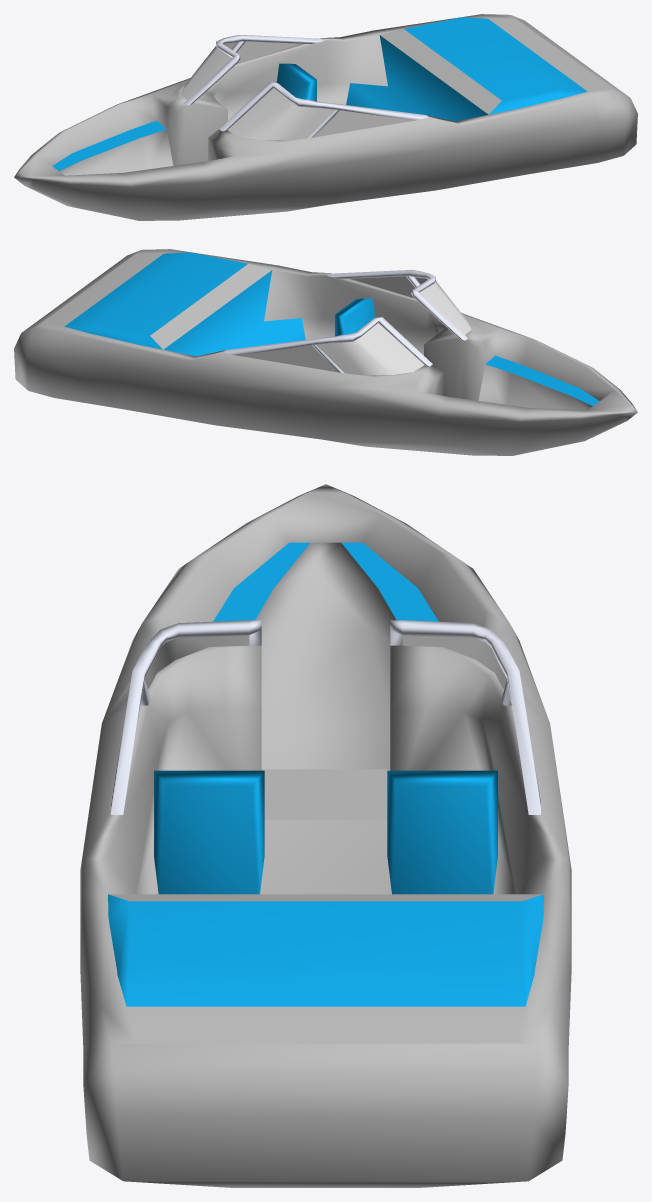
Rendered from speed boat animated.fbx.
3 views of the same model, one above another, from view 1: azimuth 30°, elevation 25°; view 2: azimuth 150°, elevation 25°; view 3: azimuth 270°, elevation 25° (orthographic). The views are drawn at different scales.
Parts seen in each view (by area): view 1: GLASS; view 2: GLASS; view 3: GLASS.
Boxes of the visible parts, box(x1,y1,x2,y2) form: GLASS: box(14, 14, 637, 220); GLASS: box(14, 249, 637, 455); GLASS: box(80, 484, 571, 1187).
Bounding box in the file's own units: 991 × 246 × 369.
